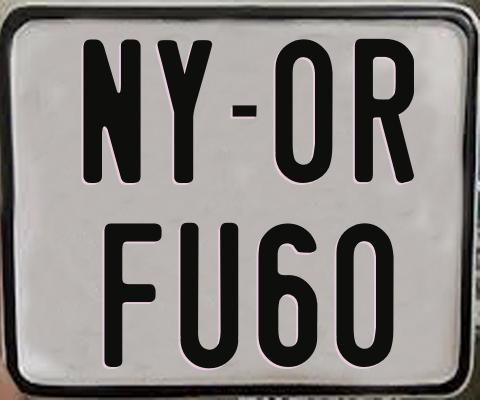0: (335, 220, 398, 367), (274, 39, 336, 185)
6: (256, 222, 320, 372)
F: (102, 223, 164, 371)
N: (80, 38, 140, 188)
R: (352, 38, 417, 183)
U: (177, 221, 236, 371)
Y: (155, 37, 211, 181)
